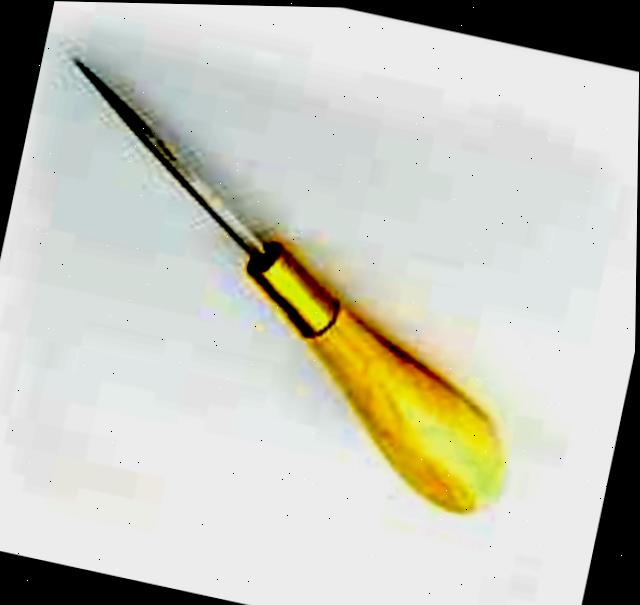ice pick: (0, 40, 572, 516)
